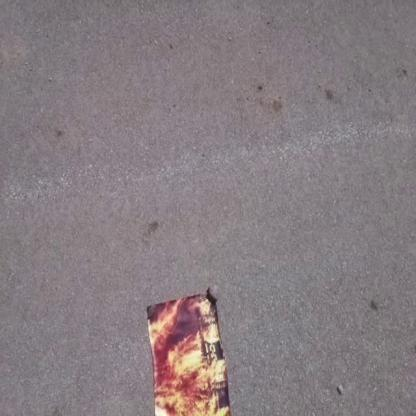fire-poster: (145, 285, 233, 415)
